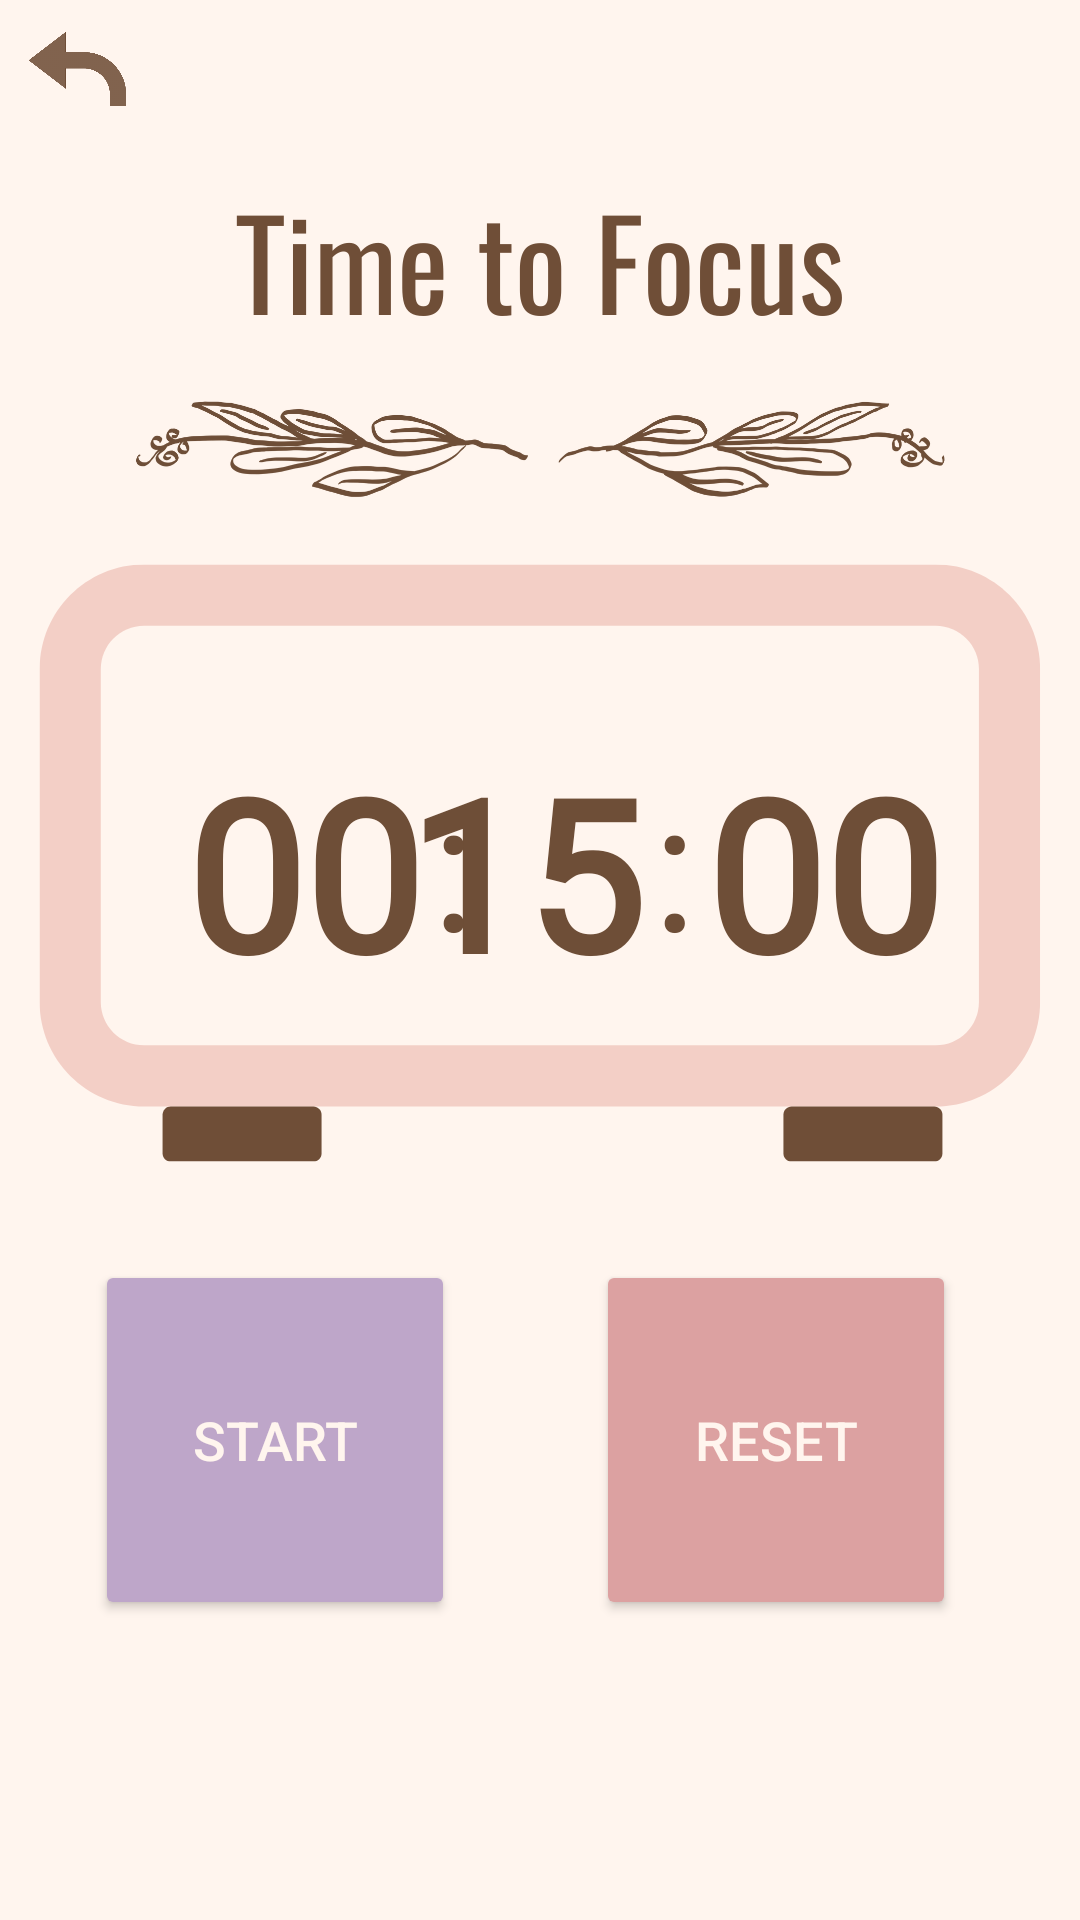

Where icons sit on this 1080×1920 app screen, as (x1, y1, x2, y2):
back arrow: (29, 32, 126, 106)
